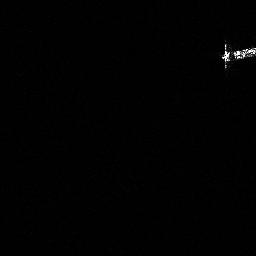ship: (224, 45, 255, 63)
